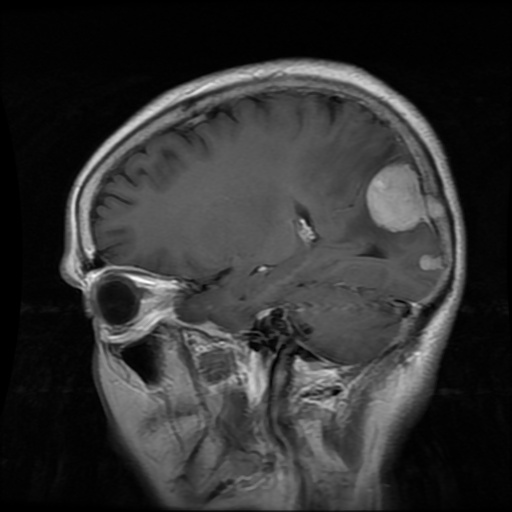meningioma: (367, 162, 424, 229)
